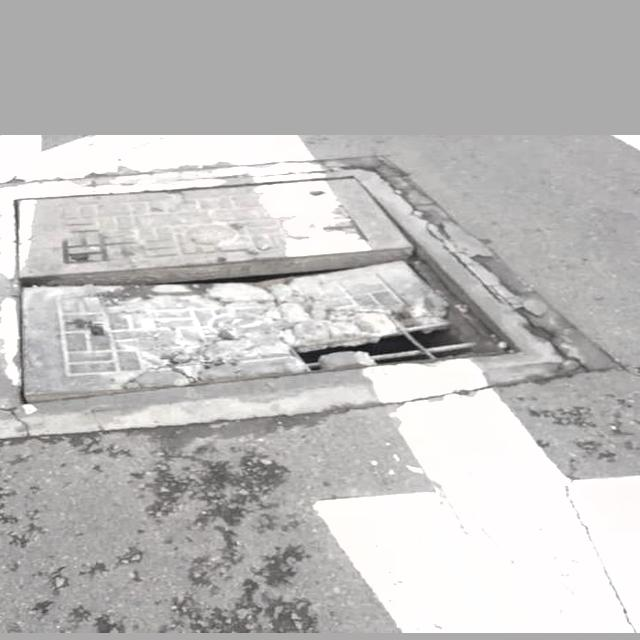broke: (0, 167, 584, 438)
